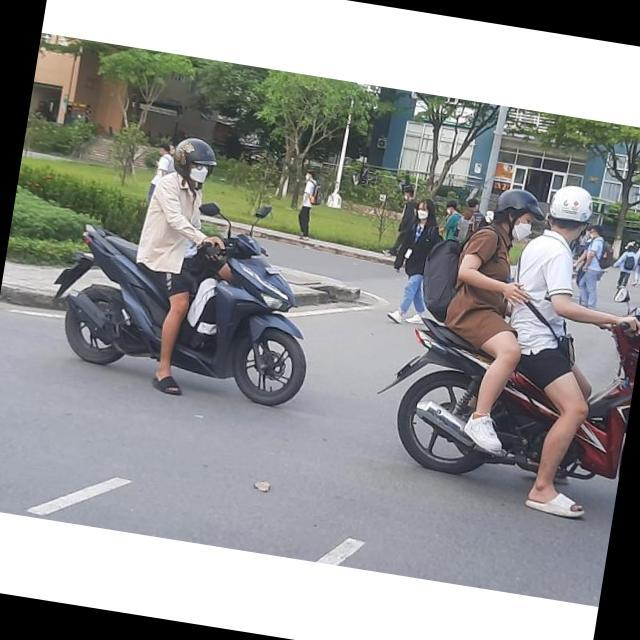WITH_HELMET: (168, 133, 222, 188), (493, 187, 544, 243), (547, 178, 598, 232)
